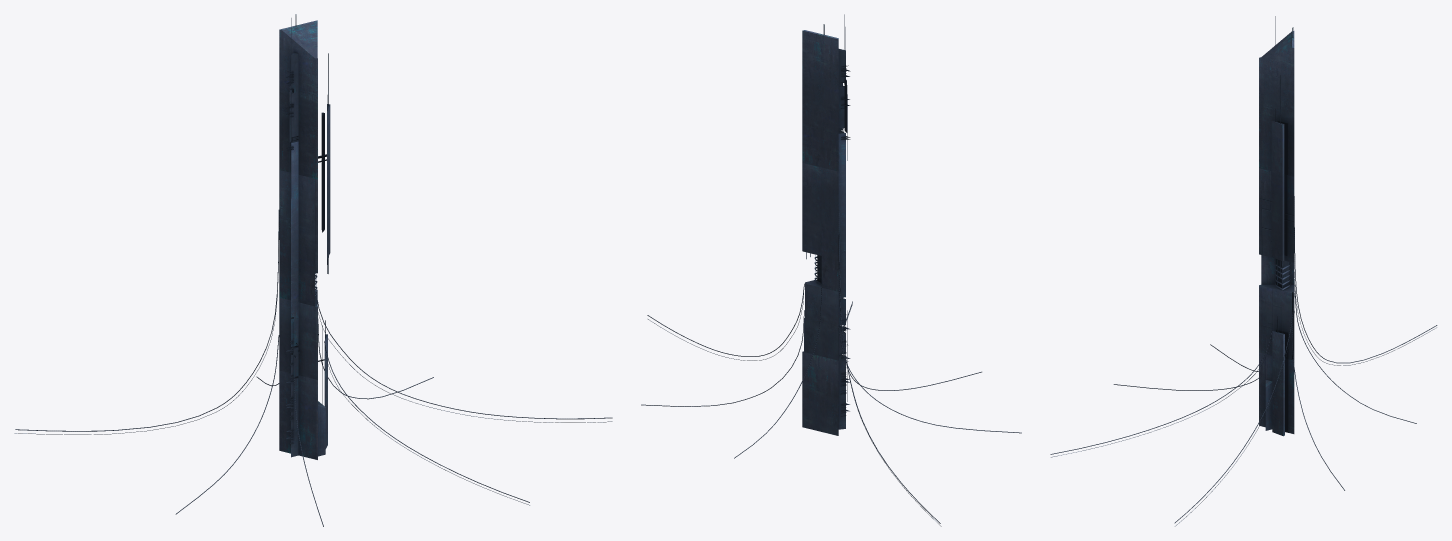
File: Citadel VERY BEEG.glb
3 renders of one model, left to right at view 1: azimuth 30°, elevation 25°; view 2: azimuth 150°, elevation 25°; view 3: azimuth 270°, elevation 25°, orthographic. The views are drawn at different scales.
Parts seen in each view (by area): view 1: Body_Combine_Citadel001_reference.smd; view 2: Body_Combine_Citadel001_reference.smd; view 3: Body_Combine_Citadel001_reference.smd.
Part boxes in pixels (x1,y1,x2,y2): Body_Combine_Citadel001_reference.smd: (14, 14, 612, 526); Body_Combine_Citadel001_reference.smd: (641, 14, 1021, 526); Body_Combine_Citadel001_reference.smd: (1050, 16, 1437, 526).
Size of the model in its own units: 10482 by 9679 by 8406.
1 material, 1 textured.
